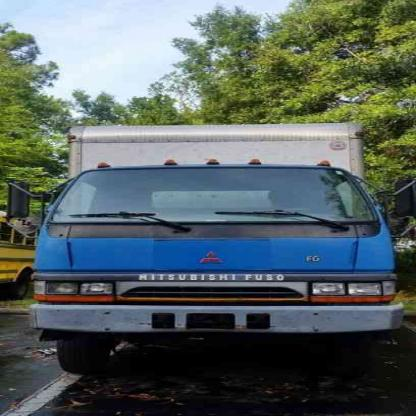truck: (35, 128, 404, 372)
